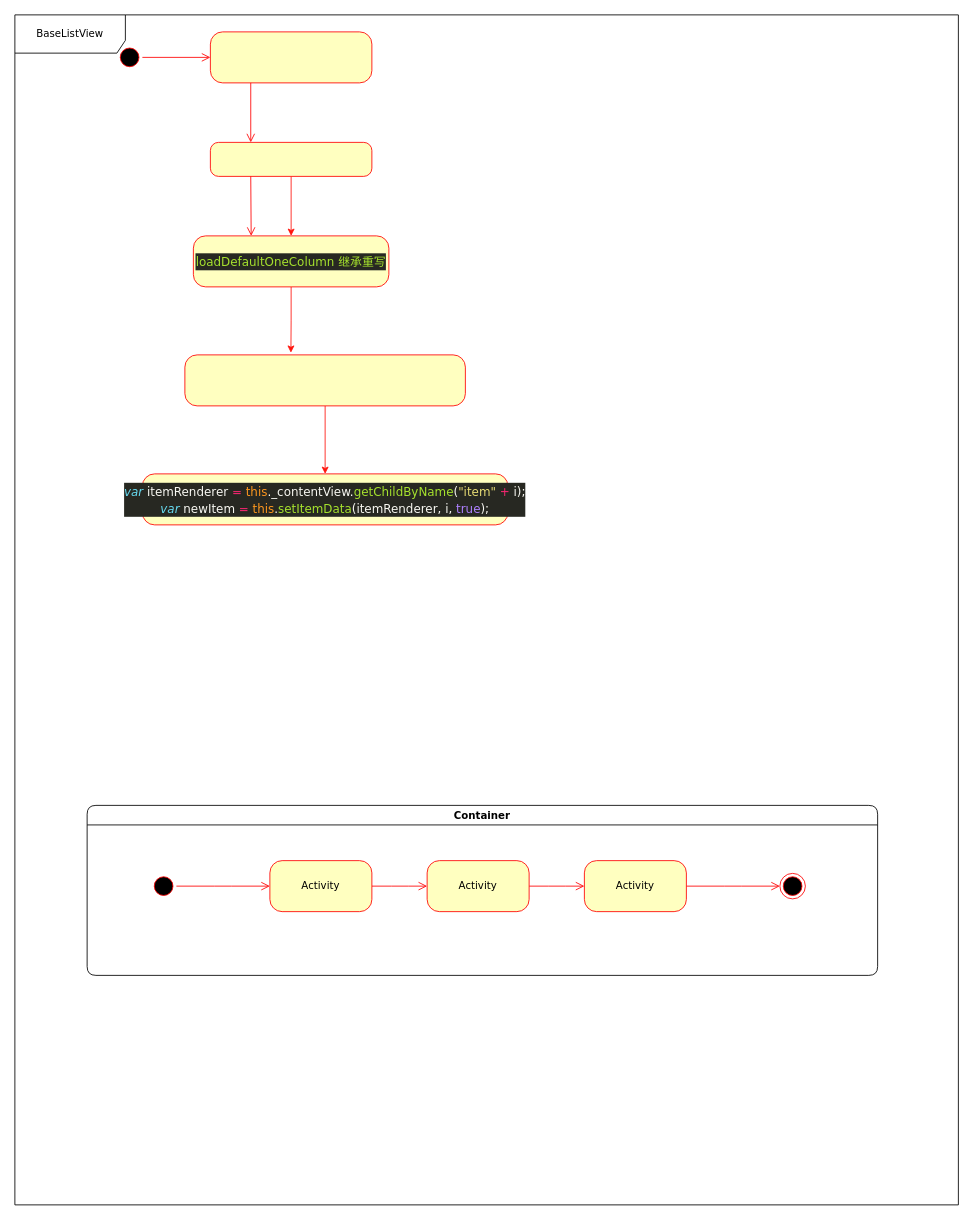
Image size: 973x1220. Some labels were removed from this diagram. The shapes that lost their labels are listed below. From the top down, each one's centre as x and y in pixels, then its label:
At pixel 291 57: "listViewLogic. setData".
At pixel 291 159: "_setDefaultItems".
At pixel 324 380: "gdk.Timer. frameLoop ( 1 , this , this ._loadOneColumn)".
